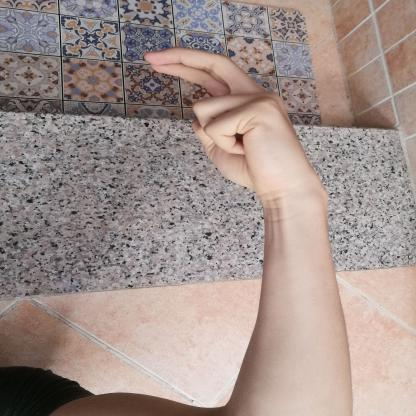ZAY: (130, 41, 327, 202)
